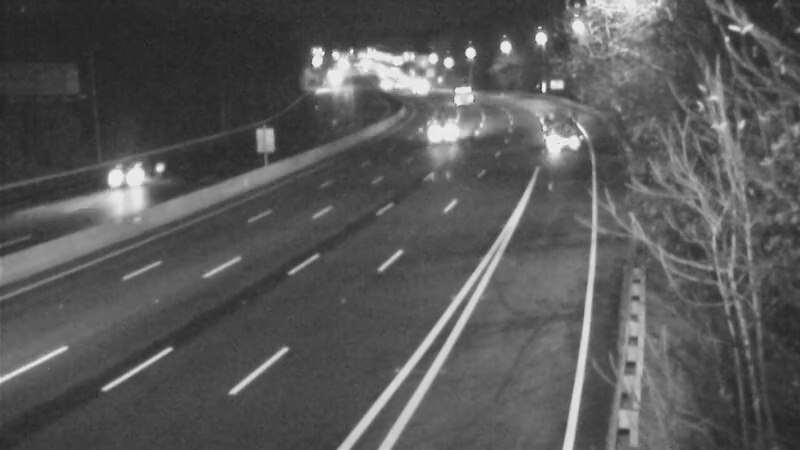vehicle: (88, 138, 168, 218), (440, 69, 490, 119), (536, 113, 586, 163), (417, 106, 467, 156)
